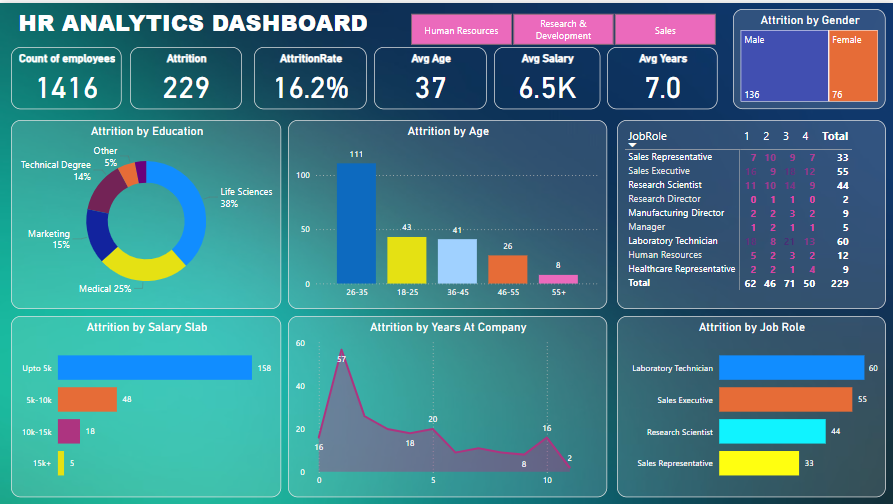

What the dashboard file says about the page in this screenshot:
{"tool":"powerbi","page":{"name":"Page 1","canvas":[1280,720],"ordinal":0},"visuals":[{"type":"card","title":"Count of employees","fields":{"Values":["CountNonNull(HR_Analytics.EmpID)"]},"box":[15.3,62.5,158.5,89],"z":0},{"type":"card","title":"Attrition","fields":{"Values":["Sum(HR_Analytics.AttritionCount)"]},"box":[186.3,62.5,159.8,89],"z":1000},{"type":"card","title":"Avg Age","fields":{"Values":["Avg(HR_Analytics.Age)"]},"box":[533.7,62.5,161.2,89],"z":2000},{"type":"card","title":"AttritionRate","fields":{"Values":["HR_Analytics.AttritionRate"]},"box":[362.8,62.5,161.2,89],"z":3000},{"type":"card","title":"Avg Years","fields":{"Values":["Avg(HR_Analytics.YearsAtCompany)"]},"box":[867.3,62.5,158.5,89],"z":4000},{"type":"card","title":"Avg Salary","fields":{"Values":["Avg(HR_Analytics.MonthlyIncome)"]},"box":[706.1,62.5,151.5,89],"z":5000},{"type":"donutChart","title":"Attrition by Education","fields":{"Category":["HR_Analytics.EducationField"],"Y":["Sum(HR_Analytics.AttritionCount)"]},"box":[15.3,166.8,386.4,269.7],"z":6000},{"type":"columnChart","title":"Attrition by Age","fields":{"Category":["HR_Analytics.AgeGroup"],"Y":["Sum(HR_Analytics.AttritionCount)"]},"box":[411.4,166.8,455.9,269.7],"z":7000},{"type":"pivotTable","fields":{"Rows":["HR_Analytics.JobRole"],"Columns":["HR_Analytics.JobSatisfaction"],"Values":["Sum(HR_Analytics.AttritionCount)"]},"box":[881.2,166.8,383.6,269.7],"z":8000},{"type":"barChart","title":"Attrition by Salary Slab","fields":{"Category":["HR_Analytics.SalarySlab"],"Y":["Sum(HR_Analytics.AttritionCount)"]},"box":[15.3,447.6,386.4,258.5],"z":9000},{"type":"barChart","title":"Attrition by Job Role","fields":{"Y":["Sum(HR_Analytics.AttritionCount)"],"Category":["HR_Analytics.JobRole"]},"box":[881.2,447.6,383.6,258.5],"z":10000},{"type":"areaChart","title":"Attrition by Years At Company","fields":{"Category":["HR_Analytics.YearsAtCompany"],"Y":["Sum(HR_Analytics.AttritionCount)"]},"box":[411.4,447.6,455.9,258.5],"z":10001},{"type":"treemap","title":"Attrition by Gender","fields":{"Group":["HR_Analytics.Gender"],"Values":["Sum(HR_Analytics.AttritionCount)"]},"box":[1046.6,8.3,218.2,143.2],"z":10002},{"type":"slicer","fields":{"Values":["HR_Analytics.Department"]},"box":[561.5,6.9,485.1,55.6],"z":10003},{"type":"textbox","box":[0,0,551.8,62.5],"z":10004}]}

Visuals, with their boxes in screenshot pixels (x1, y1, x2, y2), scaled from the page's 1280x720 canvas onto the 893x504 screenshot:
"Count of employees" card: rect(11, 44, 121, 106)
"Attrition" card: rect(130, 44, 241, 106)
"Avg Age" card: rect(372, 44, 485, 106)
"AttritionRate" card: rect(253, 44, 366, 106)
"Avg Years" card: rect(605, 44, 716, 106)
"Avg Salary" card: rect(493, 44, 598, 106)
"Attrition by Education" donutChart: rect(11, 117, 280, 306)
"Attrition by Age" columnChart: rect(287, 117, 605, 306)
pivotTable - HR_Analytics.JobRole x HR_Analytics.JobSatisfaction: rect(615, 117, 882, 306)
"Attrition by Salary Slab" barChart: rect(11, 313, 280, 494)
"Attrition by Job Role" barChart: rect(615, 313, 882, 494)
"Attrition by Years At Company" areaChart: rect(287, 313, 605, 494)
"Attrition by Gender" treemap: rect(730, 6, 882, 106)
slicer - HR_Analytics.Department: rect(392, 5, 730, 44)
textbox: rect(0, 0, 385, 44)
